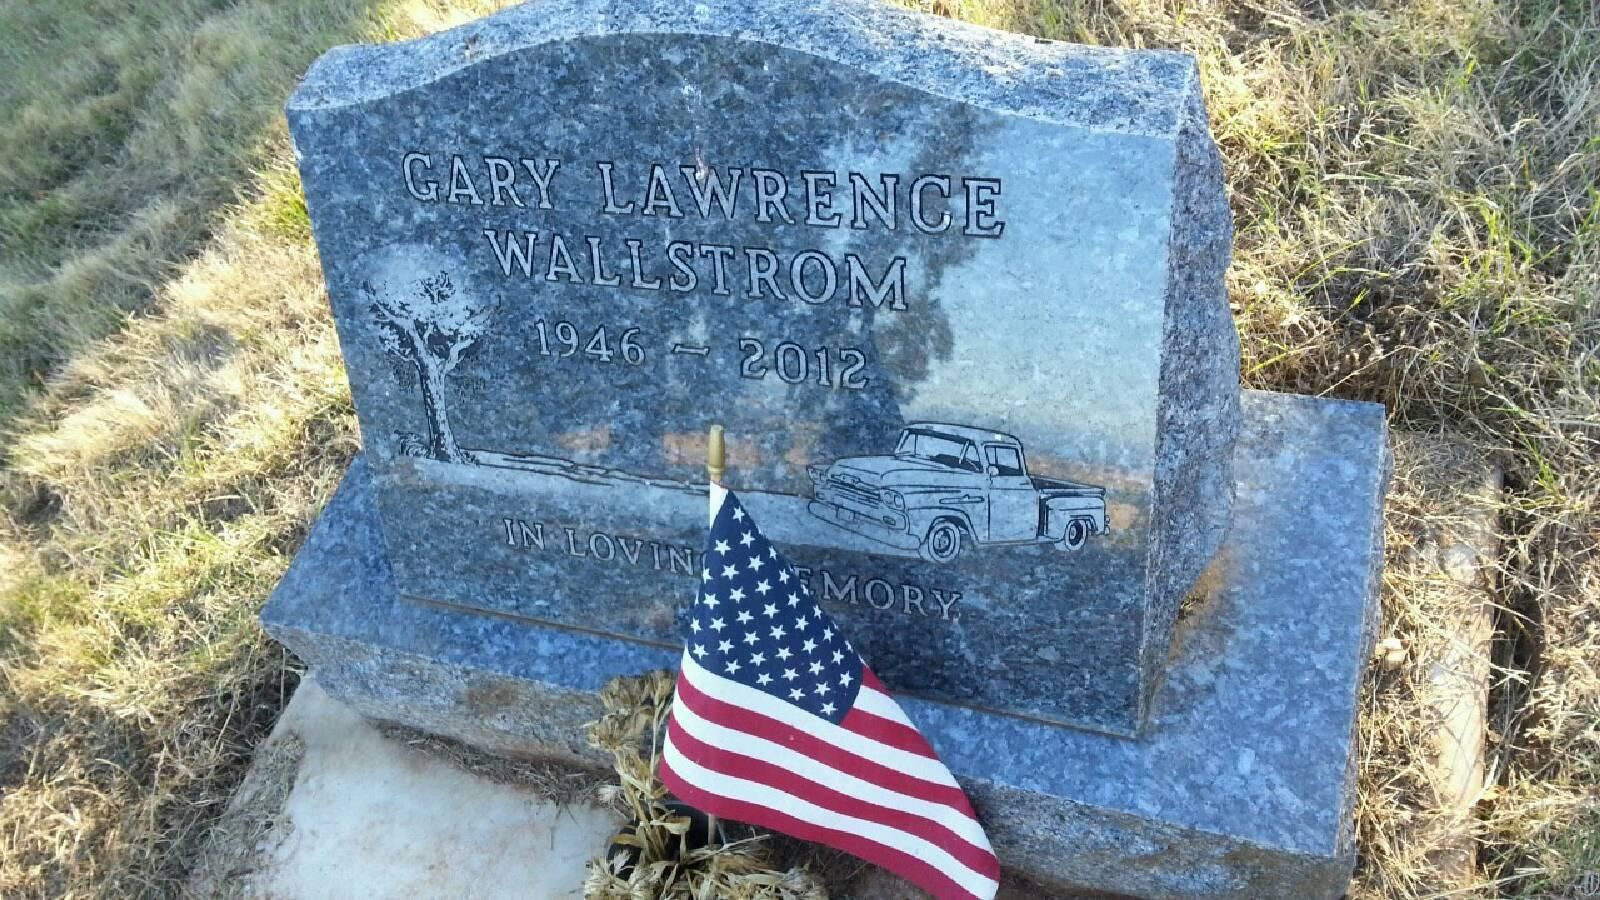slant: (193, 4, 1427, 886)
